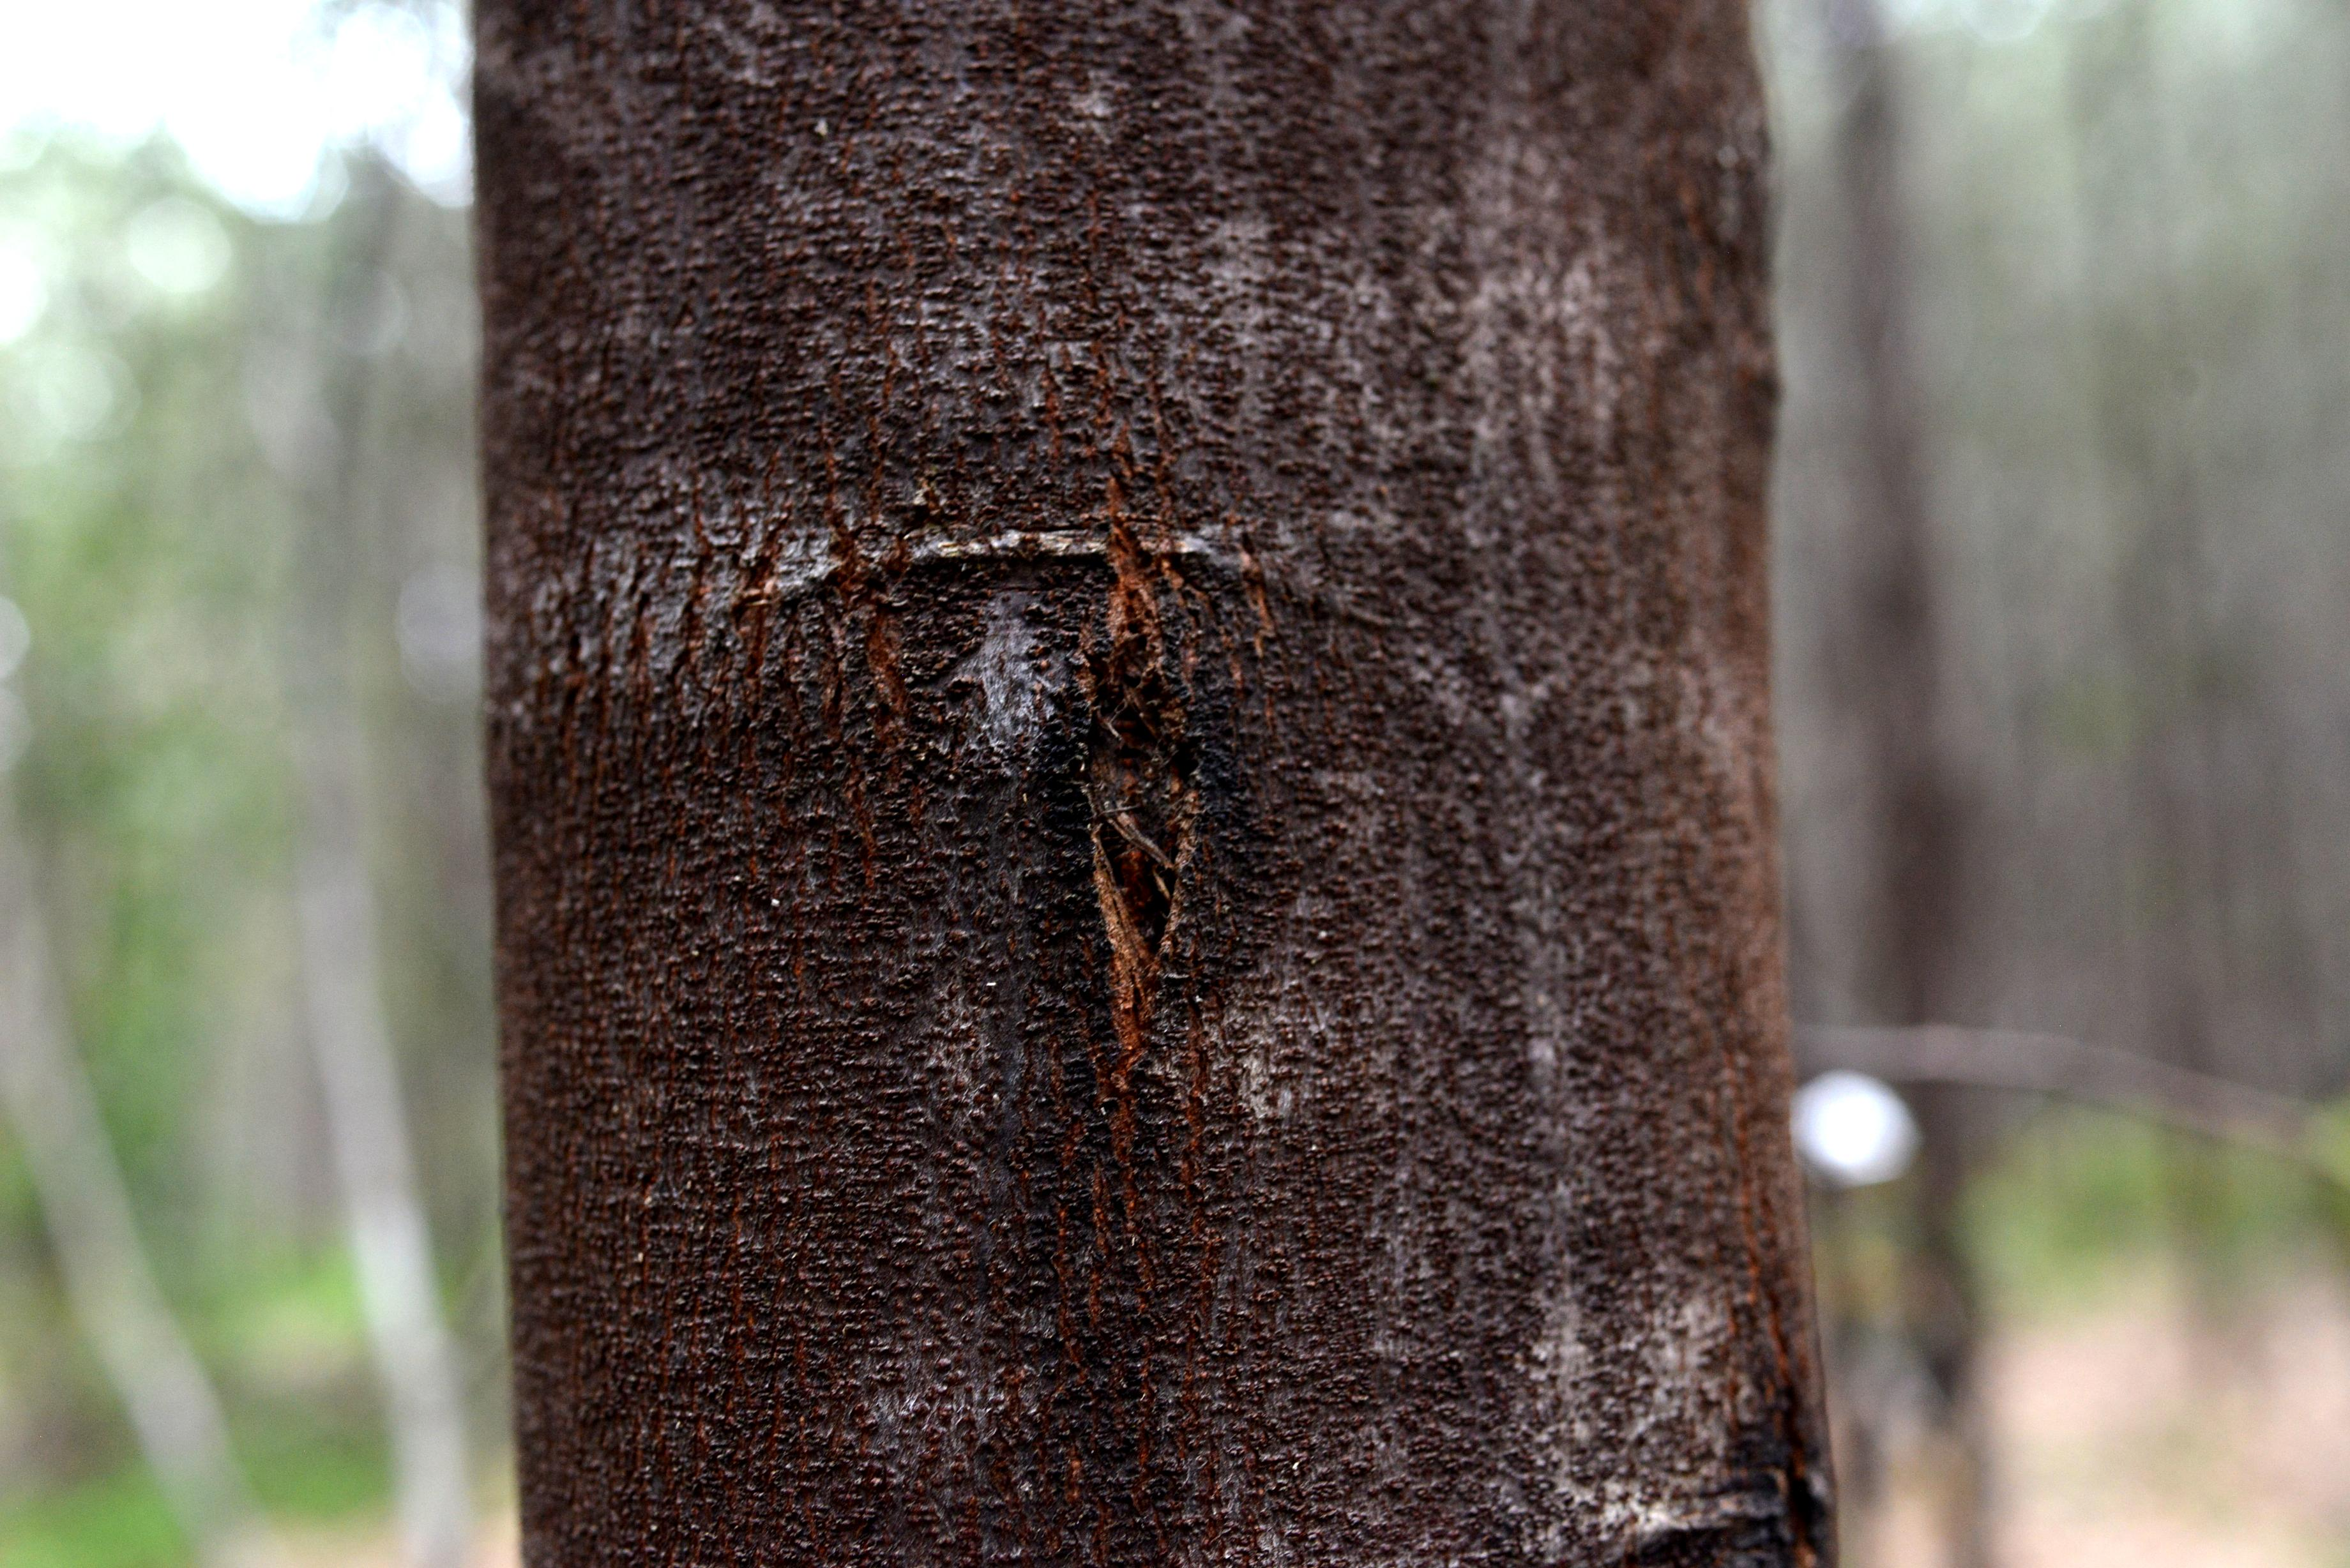Stem Borer: (924, 397, 1337, 1241), (1696, 1300, 1862, 1568)
